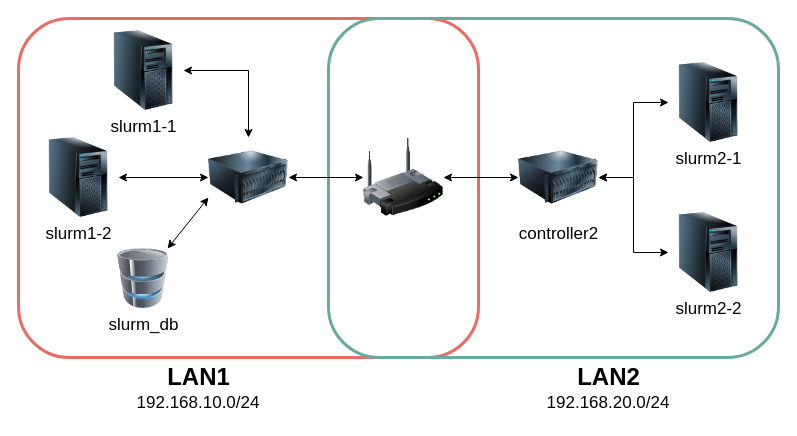
The diagram is 797 pixels wide and 436 high, and some of its shapes have lost their labels. Here are the shapes that lost their labels. From the top down, the centre of each, then its label:
pixel 248 177: controller1
pixel 403 177: router
